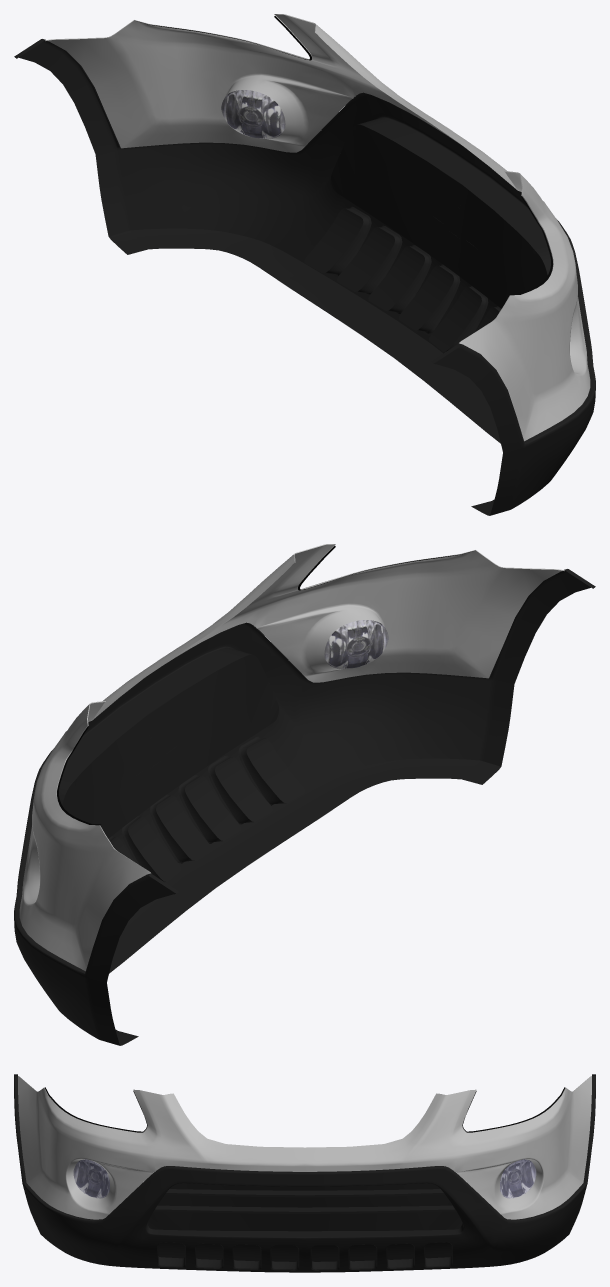
The picture shows the model from 3 angles, top to bottom: view 1: azimuth 30°, elevation 25°; view 2: azimuth 150°, elevation 25°; view 3: azimuth 270°, elevation 25°; orthographic projection. The views are drawn at different scales.
Visible parts, largest first — view 1: H811_021G_C_H811_021G_C_2_D, H811_021G_C_4_DaS_H811_021G_C, H811_021G_C_H811_021G_C_1_D, H811_021G_C_H811_021G_C_2_D_E, H811_021G_C_H811_021G_C_3_N, H811_021G_C_4_DaS_H811_021G_C_E; view 2: H811_021G_C_H811_021G_C_2_D, H811_021G_C_4_DaS_H811_021G_C, H811_021G_C_H811_021G_C_1_D, H811_021G_C_H811_021G_C_2_D_E, H811_021G_C_H811_021G_C_5_N, H811_021G_C_4_DaS_H811_021G_C_E; view 3: H811_021G_C_4_DaS_H811_021G_C, H811_021G_C_H811_021G_C_2_D, H811_021G_C_H811_021G_C_1_D, H811_021G_C_H811_021G_C_2_D_E, H811_021G_C_H811_021G_C_3_N, H811_021G_C_H811_021G_C_5_N, H811_021G_C_H811_021G_C_6_DTaSI, H811_021G_C_H811_021G_C_9_DTaSI.
Part boxes in pixels (left/top/right/bottom): H811_021G_C_H811_021G_C_2_D: left=14, top=39, right=595, bottom=515; H811_021G_C_4_DaS_H811_021G_C: left=47, top=14, right=590, bottom=441; H811_021G_C_H811_021G_C_1_D: left=331, top=124, right=547, bottom=308; H811_021G_C_H811_021G_C_2_D_E: left=304, top=117, right=550, bottom=351; H811_021G_C_H811_021G_C_3_N: left=221, top=90, right=285, bottom=138; H811_021G_C_4_DaS_H811_021G_C_E: left=45, top=14, right=553, bottom=342; H811_021G_C_H811_021G_C_2_D: left=14, top=569, right=595, bottom=1045; H811_021G_C_4_DaS_H811_021G_C: left=19, top=544, right=562, bottom=971; H811_021G_C_H811_021G_C_1_D: left=62, top=654, right=278, bottom=838; H811_021G_C_H811_021G_C_2_D_E: left=59, top=647, right=305, bottom=881; H811_021G_C_H811_021G_C_5_N: left=324, top=620, right=388, bottom=668; H811_021G_C_4_DaS_H811_021G_C_E: left=56, top=544, right=564, bottom=872; H811_021G_C_4_DaS_H811_021G_C: left=18, top=1076, right=591, bottom=1219; H811_021G_C_H811_021G_C_2_D: left=14, top=1074, right=595, bottom=1272; H811_021G_C_H811_021G_C_1_D: left=147, top=1183, right=462, bottom=1231; H811_021G_C_H811_021G_C_2_D_E: left=146, top=1193, right=463, bottom=1270; H811_021G_C_H811_021G_C_3_N: left=500, top=1159, right=536, bottom=1198; H811_021G_C_H811_021G_C_5_N: left=73, top=1159, right=109, bottom=1198; H811_021G_C_H811_021G_C_6_DTaSI: left=74, top=1159, right=109, bottom=1198; H811_021G_C_H811_021G_C_9_DTaSI: left=500, top=1159, right=535, bottom=1198.
Size of the model in its own units: 78.09 by 71.09 by 213.
